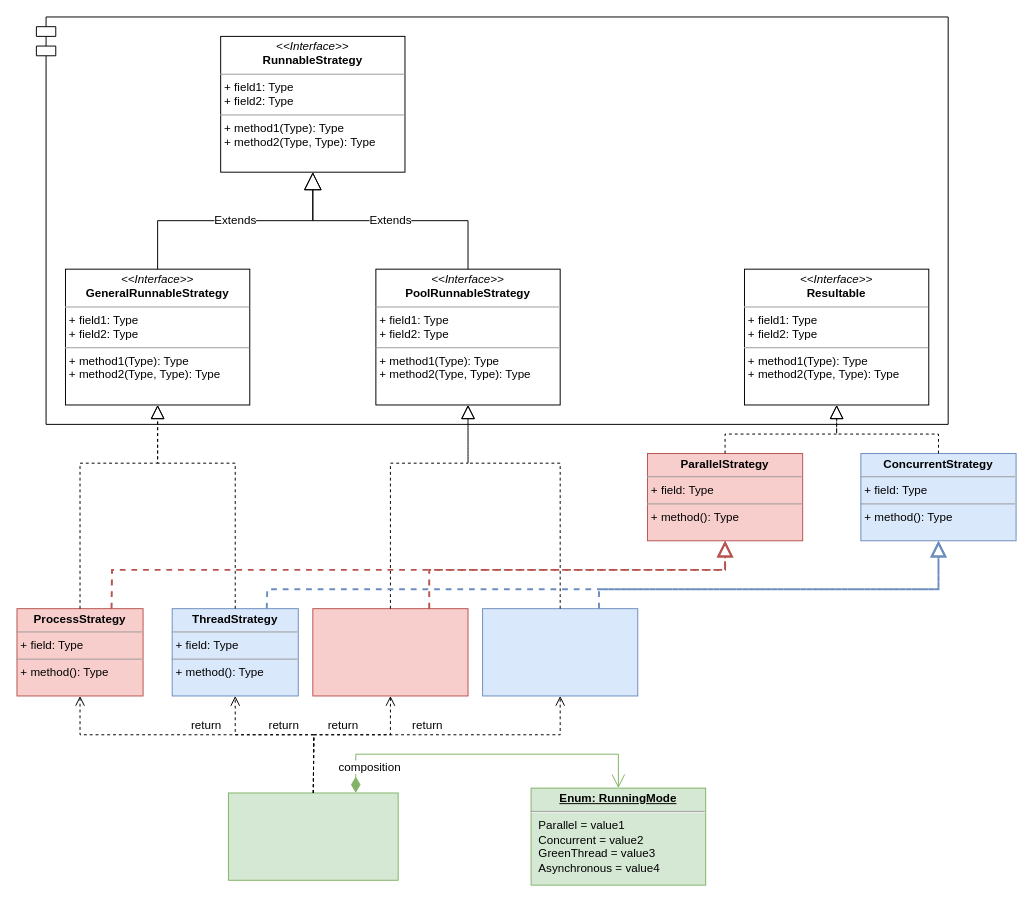
The diagram is 1033 pixels wide and 902 high, and some of its shapes have lost their labels. The shapes that lost their labels are listed below. From the top down, each one's box as (x1, y1, x2, y2) in pixels, then its label:
(35, 16, 948, 424): Framework.Strategy Module
(312, 608, 468, 696): ProcessPoolStrategy + field: Type + method(): Type
(482, 608, 638, 696): ThreadPoolStrategy + field: Type + method(): Type
(227, 792, 398, 880): StrategyAdapter + field: Type + method(): Type
